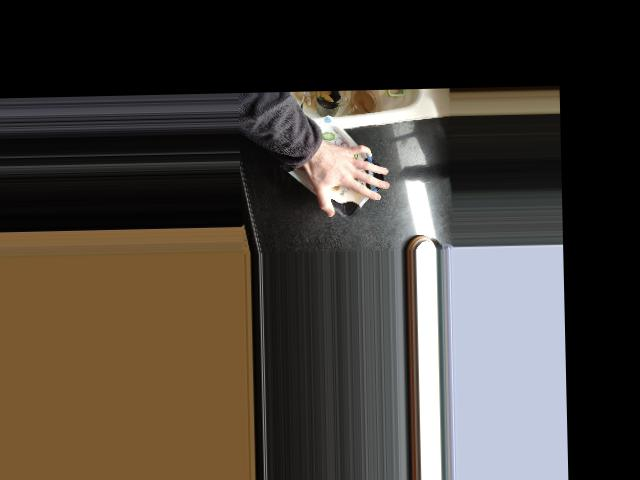cheese: (279, 110, 389, 220)
